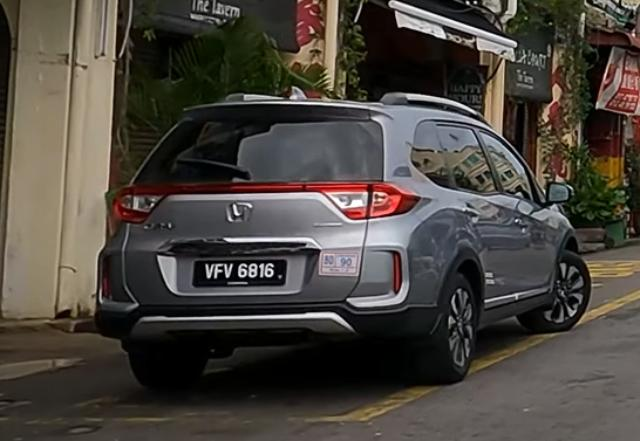License_Plate: (192, 258, 289, 288)
car: (94, 88, 592, 390)
